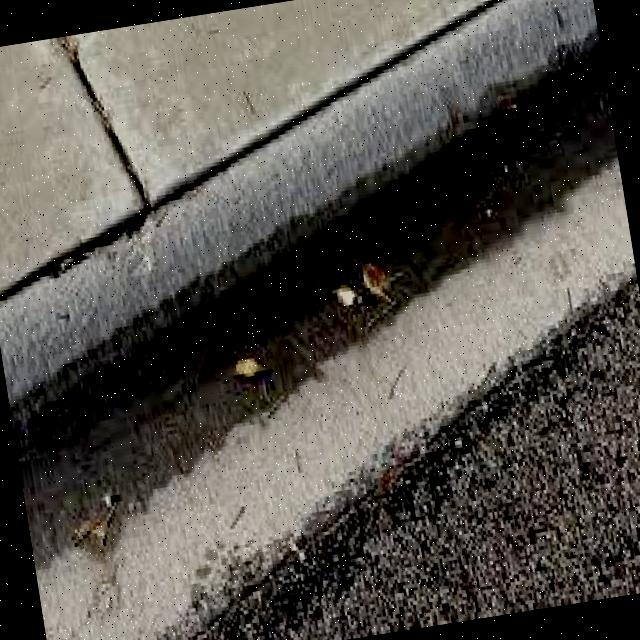curb: (1, 1, 604, 508)
